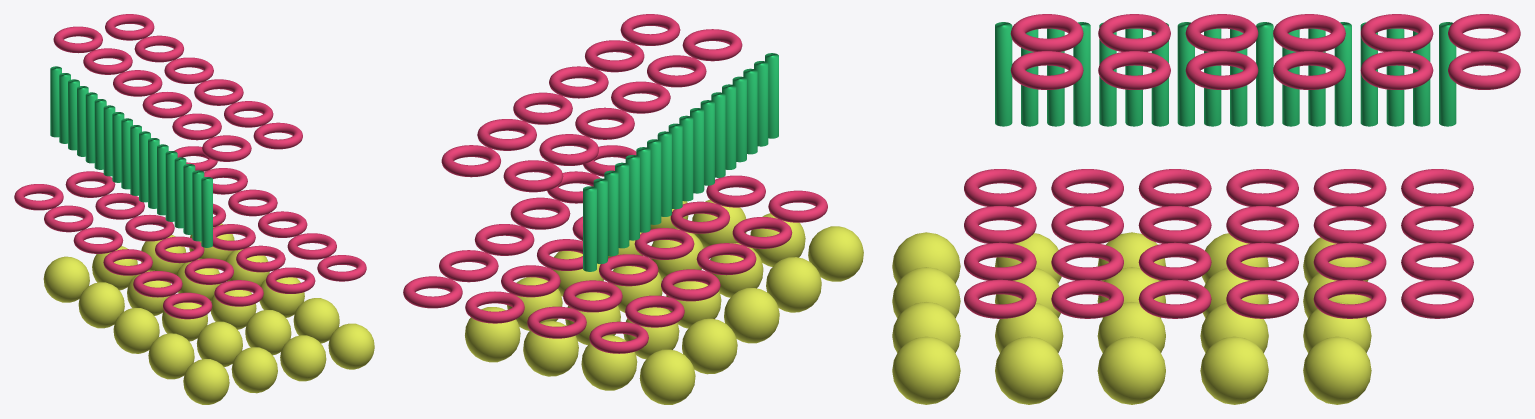
Rendered from lost-in-my-a-anim.glb.
3 renders of one model, left to right at view 1: azimuth 30°, elevation 25°; view 2: azimuth 150°, elevation 25°; view 3: azimuth 270°, elevation 25°, orthographic. The views are drawn at different scales.
Visible parts, largest first — view 1: Icosphere.019, Icosphere.014, Icosphere.004, Icosphere.009, Icosphere.003, Icosphere.001, Icosphere.002, Icosphere, Icosphere.013, Icosphere.018, Icosphere.008, Icosphere.017 (+59 smaller); view 2: Icosphere, Icosphere.004, Icosphere.002, Icosphere.003, Icosphere.001, Icosphere.015, Icosphere.010, Icosphere.005, Torus.005, Torus.031, Torus.001, Torus.002 (+57 smaller); view 3: Icosphere.018, Icosphere.017, Icosphere.015, Icosphere.016, Icosphere.019, Icosphere.004, Icosphere.009, Icosphere.014, Icosphere.012, Torus.019, Torus.018, Torus.028 (+62 smaller).
Boxes of the visible parts, box(x1,y1,x2,y2) form: Icosphere.019: box(328, 323, 374, 369); Icosphere.014: box(280, 335, 326, 381); Icosphere.004: box(183, 359, 229, 404); Icosphere.009: box(231, 347, 277, 393); Icosphere.003: box(148, 333, 194, 379); Icosphere.001: box(78, 282, 124, 328); Icosphere.002: box(113, 308, 159, 353); Icosphere: box(43, 256, 89, 302); Icosphere.013: box(245, 310, 291, 355); Icosphere.018: box(293, 298, 339, 343); Icosphere.008: box(196, 321, 242, 367); Icosphere.017: box(259, 277, 304, 317); Icosphere: box(639, 349, 695, 404); Icosphere.004: box(808, 226, 863, 281); Icosphere.002: box(724, 288, 779, 343); Icosphere.003: box(766, 257, 821, 312); Icosphere.001: box(682, 318, 737, 374); Icosphere.015: box(465, 307, 520, 362); Icosphere.010: box(523, 321, 578, 376); Icosphere.005: box(581, 335, 637, 390); Torus.005: box(768, 190, 827, 222); Torus.031: box(647, 55, 706, 87); Torus.001: box(625, 295, 684, 327); Torus.002: box(661, 269, 720, 301); Icosphere.018: box(995, 336, 1063, 404); Icosphere.017: box(1097, 336, 1165, 404); Icosphere.015: box(1303, 336, 1371, 404); Icosphere.016: box(1200, 336, 1268, 404); Icosphere.019: box(892, 336, 960, 404); Icosphere.004: box(892, 232, 960, 283); Icosphere.009: box(892, 267, 960, 318); Icosphere.014: box(892, 302, 960, 352); Icosphere.012: box(1097, 302, 1165, 352); Torus.019: box(1313, 279, 1386, 318); Torus.018: box(1401, 279, 1473, 318); Torus.028: box(1360, 51, 1433, 89).
Size of the model in its own units: 1.17 by 1.18 by 2.14.
